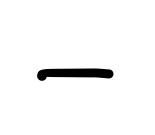minus: (37, 68, 114, 81)
